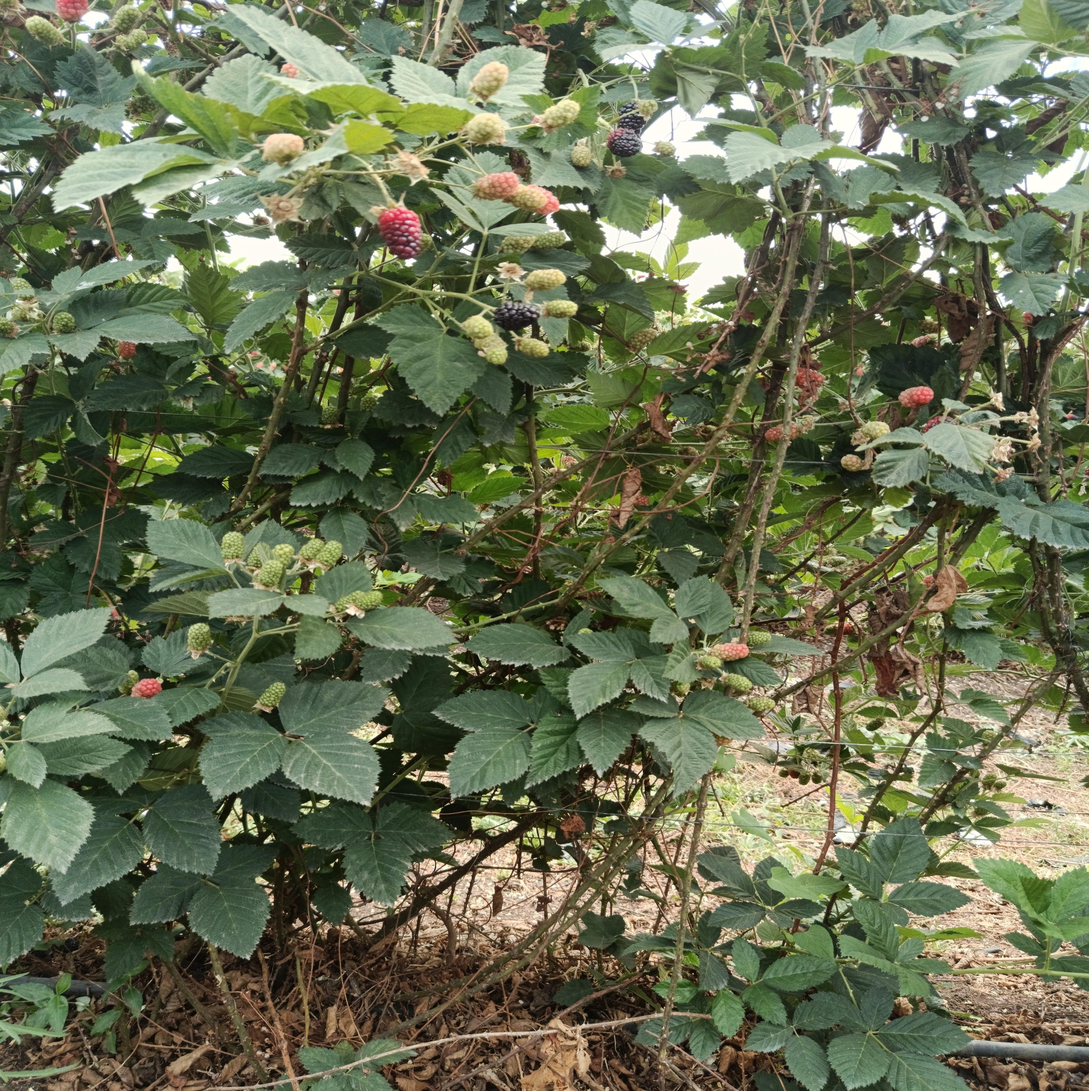maduro: (494, 301, 539, 331), (616, 107, 645, 133)
marron: (378, 207, 422, 259), (607, 128, 641, 158), (919, 416, 953, 434)
naranja: (507, 185, 559, 215), (472, 172, 521, 200), (898, 386, 934, 409), (713, 642, 749, 661), (797, 367, 825, 391), (788, 417, 816, 440), (131, 678, 162, 698), (118, 341, 137, 358), (766, 426, 784, 442), (10, 0, 16, 5)
verde: (534, 99, 581, 133), (470, 62, 508, 100), (461, 113, 506, 144), (262, 133, 304, 165), (25, 16, 65, 47), (335, 591, 382, 617), (851, 421, 891, 447), (253, 558, 285, 590), (254, 682, 287, 712), (525, 269, 566, 291), (111, 5, 143, 33), (187, 622, 211, 659), (627, 325, 661, 351), (462, 315, 494, 340), (499, 234, 538, 254), (115, 29, 148, 52), (318, 540, 343, 569), (221, 531, 244, 561), (542, 299, 578, 318), (515, 337, 549, 357), (299, 537, 325, 561), (722, 674, 753, 693), (51, 311, 76, 334), (534, 231, 567, 248), (744, 696, 775, 714), (571, 141, 592, 167), (745, 629, 772, 649), (840, 454, 868, 473), (273, 543, 295, 567), (483, 345, 507, 365), (9, 277, 33, 295), (0, 317, 19, 338), (698, 654, 722, 669)
